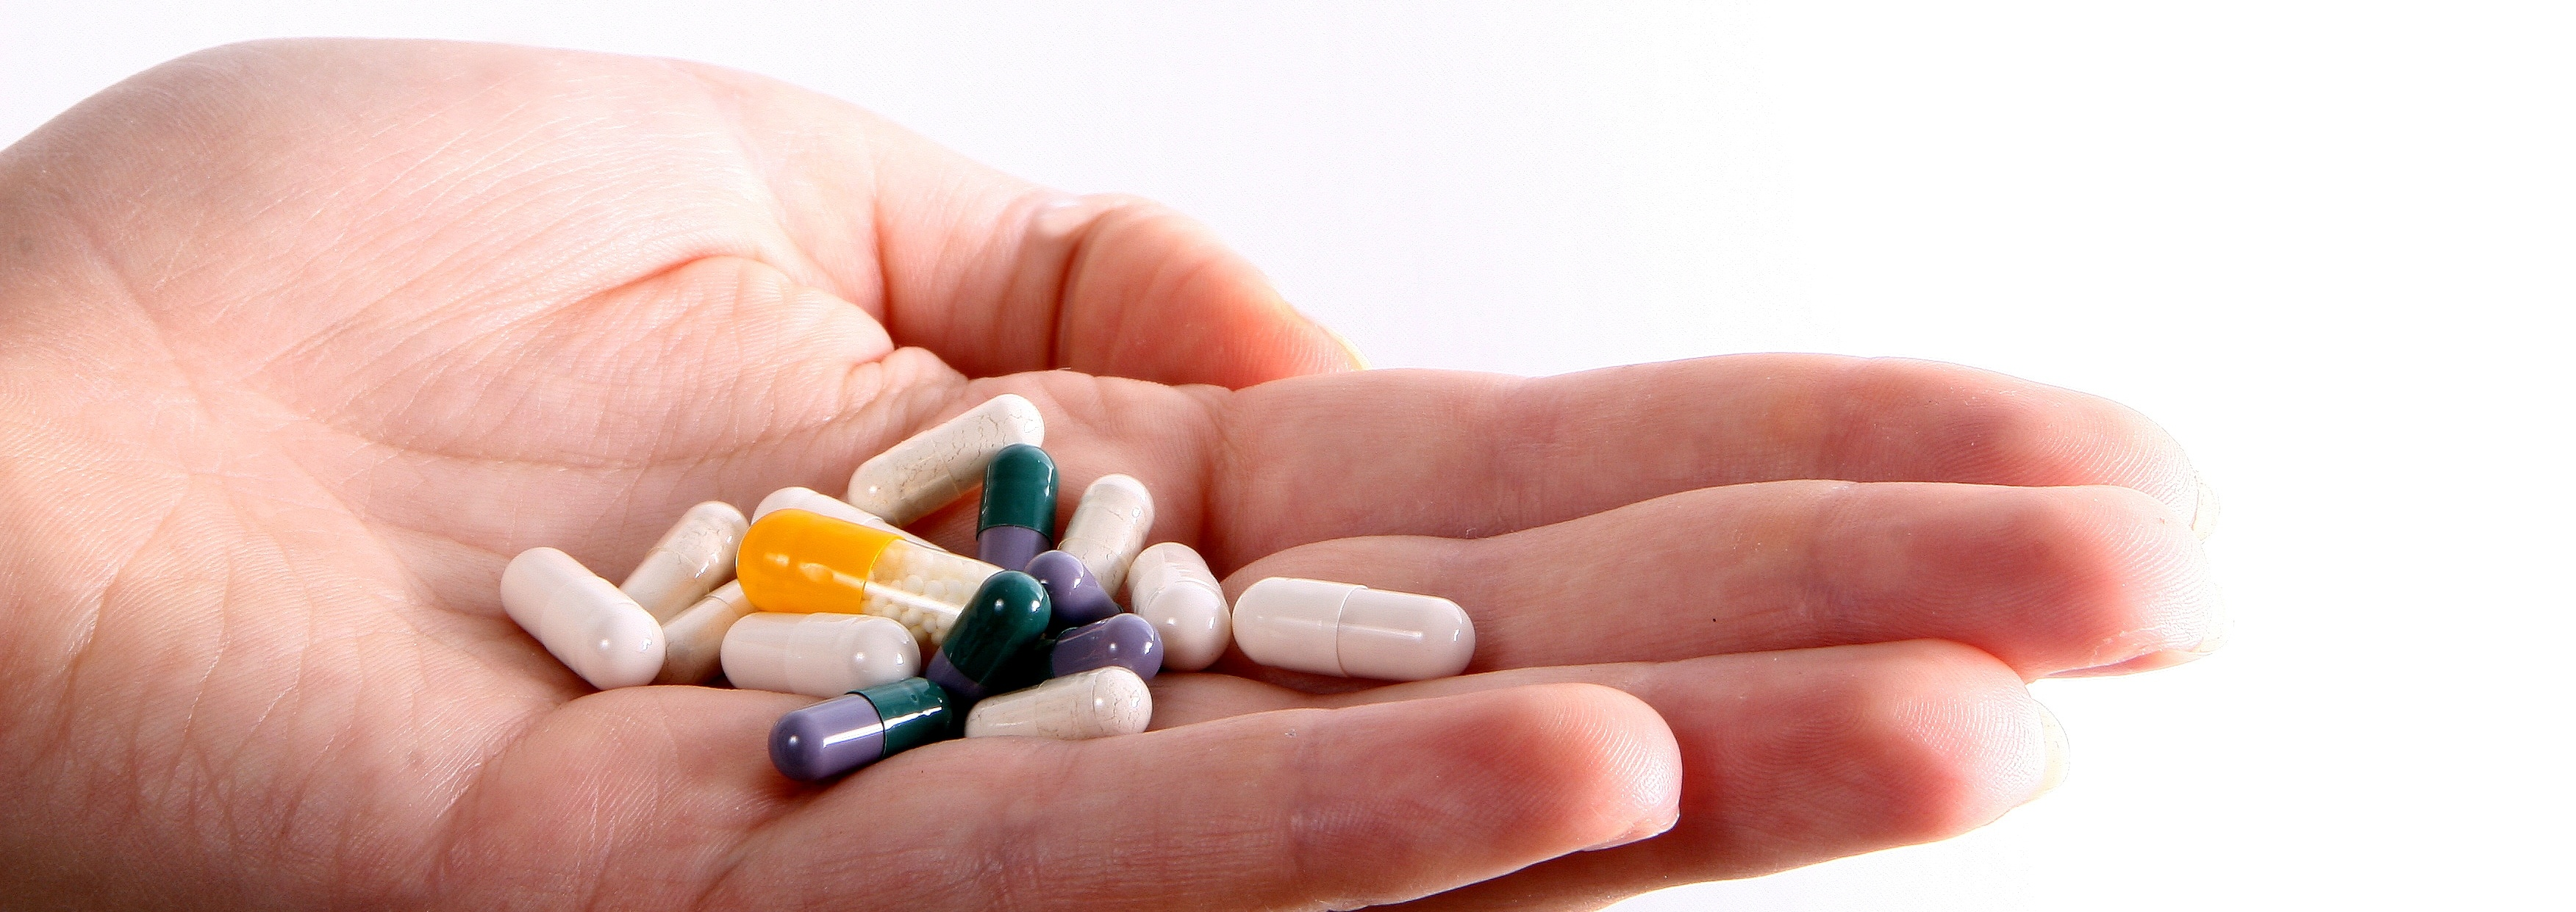pills: (743, 498, 1035, 656), (1235, 527, 1479, 708), (820, 375, 1051, 536), (757, 654, 966, 800), (494, 537, 667, 705), (941, 674, 1161, 764)
